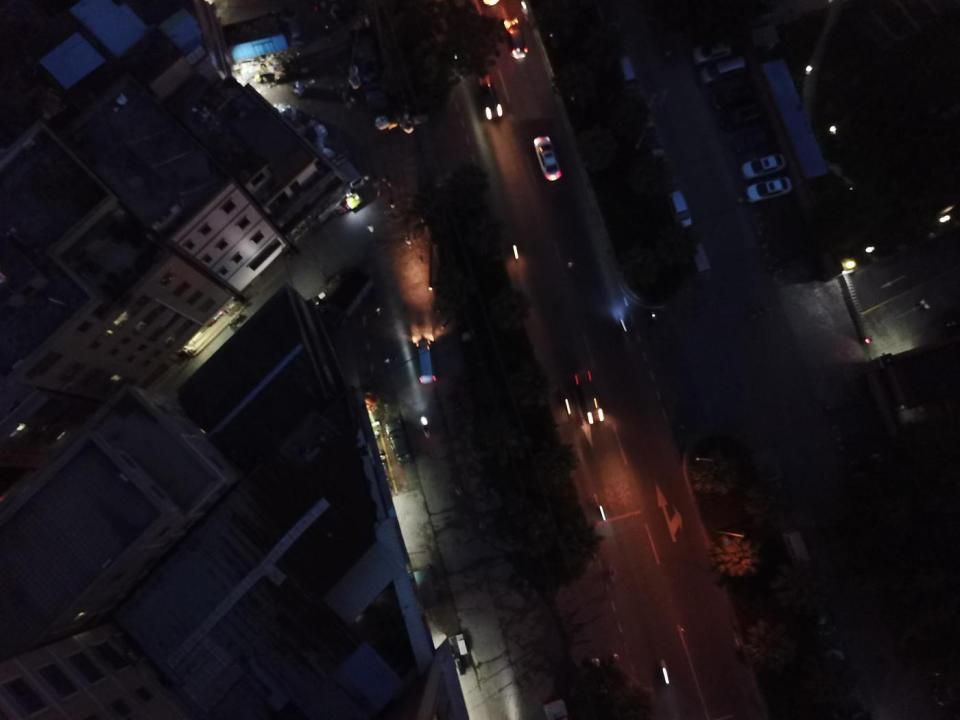car: (718, 98, 767, 130), (475, 70, 504, 122), (384, 419, 415, 467), (533, 134, 563, 182), (710, 77, 758, 107), (500, 16, 530, 60), (744, 176, 792, 203), (741, 153, 787, 178), (691, 41, 735, 66)
van: (698, 54, 746, 87), (331, 153, 366, 191), (780, 530, 811, 568), (414, 338, 437, 386), (666, 189, 692, 228)
